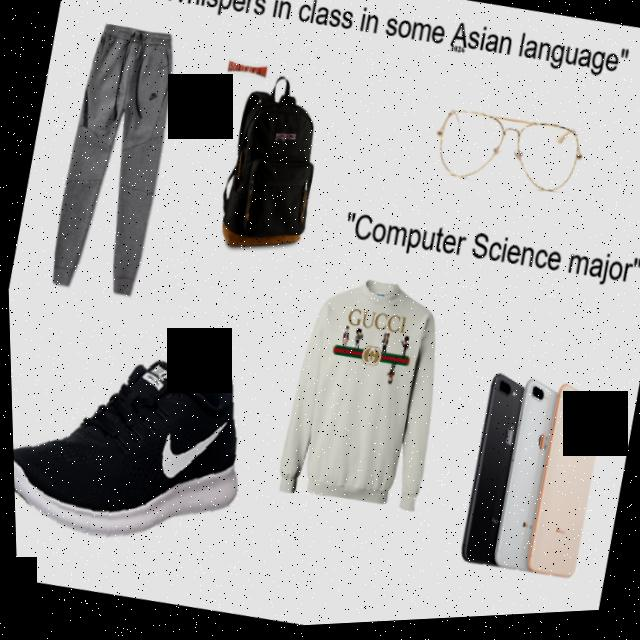shoe: (7, 301, 279, 583)
